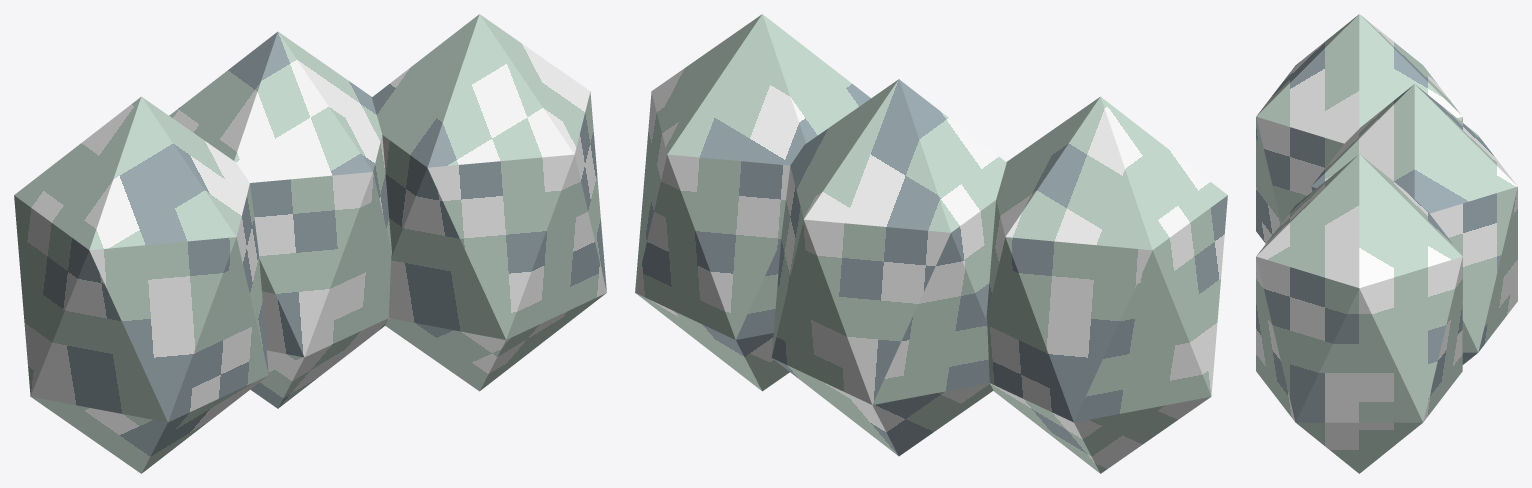
Rendered from a58_ovo_gigante.glb.
The picture shows the model from 3 angles, left to right: view 1: azimuth 30°, elevation 25°; view 2: azimuth 150°, elevation 25°; view 3: azimuth 270°, elevation 25°; orthographic projection. The views are drawn at different scales.
Visible parts, largest first — view 1: a58_ovo_gigante; view 2: a58_ovo_gigante; view 3: a58_ovo_gigante.
Boxes of the visible parts, x1,y1,x2,y2 form: a58_ovo_gigante: (14,14,606,473); a58_ovo_gigante: (635,14,1227,473); a58_ovo_gigante: (1256,14,1517,473).
Bounding box in the file's own units: 0.9935 × 0.64 × 0.4743.
Materials: 1 (1 with a texture image).
